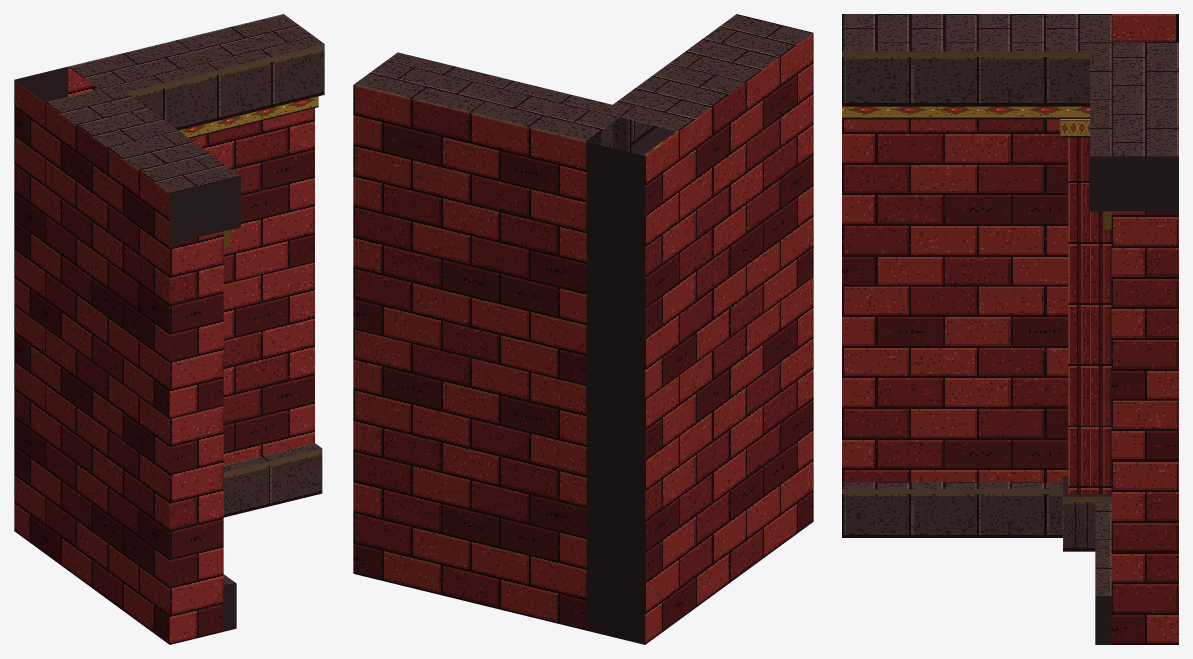
Rendered from ch_wall_corner.glb.
The picture shows the model from 3 angles, left to right: view 1: azimuth 30°, elevation 25°; view 2: azimuth 150°, elevation 25°; view 3: azimuth 270°, elevation 25°; orthographic projection. The views are drawn at different scales.
Parts seen in each view (by area): view 1: ch_wall_corner_mesh; view 2: ch_wall_corner_mesh; view 3: ch_wall_corner_mesh.
Part boxes in pixels (x1,y1,x2,y2): ch_wall_corner_mesh: (14, 14, 324, 644); ch_wall_corner_mesh: (353, 14, 813, 644); ch_wall_corner_mesh: (842, 14, 1178, 644).
Size of the model in its own units: 2.5 by 4 by 2.5.
Materials: 1 (1 with a texture image).
